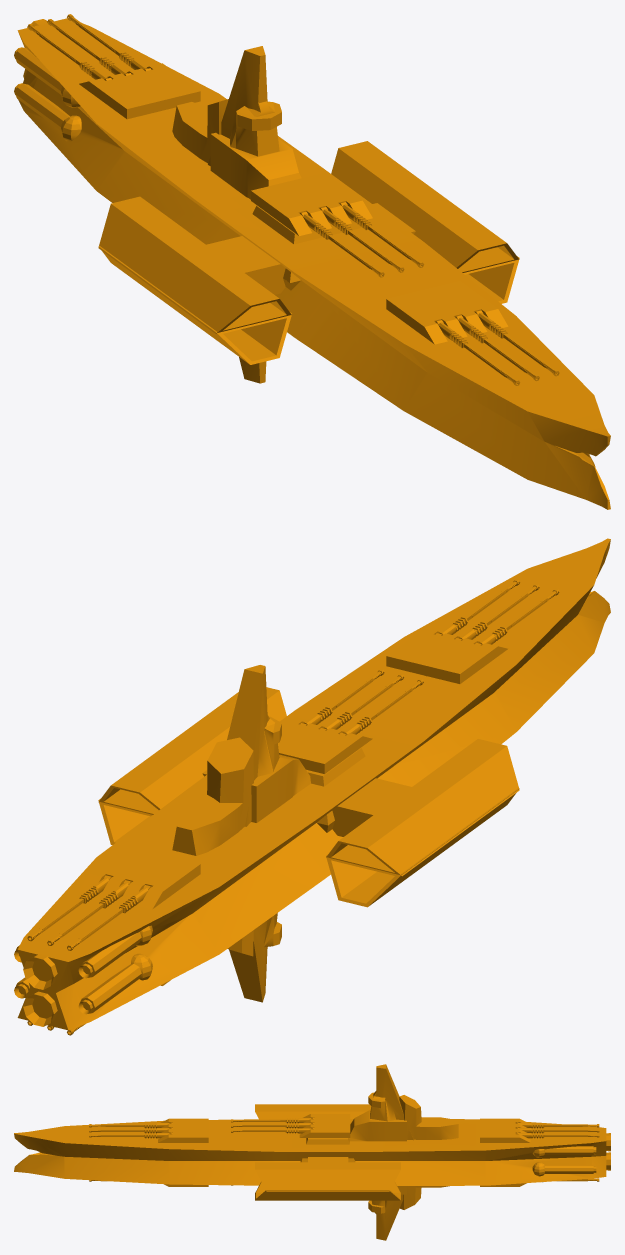
File: BattleShipEverest.fbx
The picture shows the model from 3 angles, top to bottom: view 1: azimuth 30°, elevation 25°; view 2: azimuth 150°, elevation 25°; view 3: azimuth 270°, elevation 25°; orthographic projection. The views are drawn at different scales.
Visible parts, largest first — view 1: Everest_Class_Battleship:pCylinder13, pCube7, pCube6, pCube8; view 2: Everest_Class_Battleship:pCylinder13, pCube8, pCube7, pCube6; view 3: Everest_Class_Battleship:pCylinder13, pCube7, pCube8, pCube6.
Boxes of the visible parts, x1,y1,x2,y2 form: Everest_Class_Battleship:pCylinder13: (14,18,610,509); pCube7: (386,281,559,385); pCube6: (251,172,424,277); pCube8: (27,14,200,119); Everest_Class_Battleship:pCylinder13: (14,538,610,1030); pCube8: (27,846,200,950); pCube7: (386,579,559,683); pCube6: (278,669,423,773); Everest_Class_Battleship:pCylinder13: (14,1064,610,1240); pCube7: (89,1118,208,1142); pCube8: (480,1118,599,1142); pCube6: (231,1114,350,1137).
Bounding box in the file's own units: 4.56 × 4.71 × 14.82.
